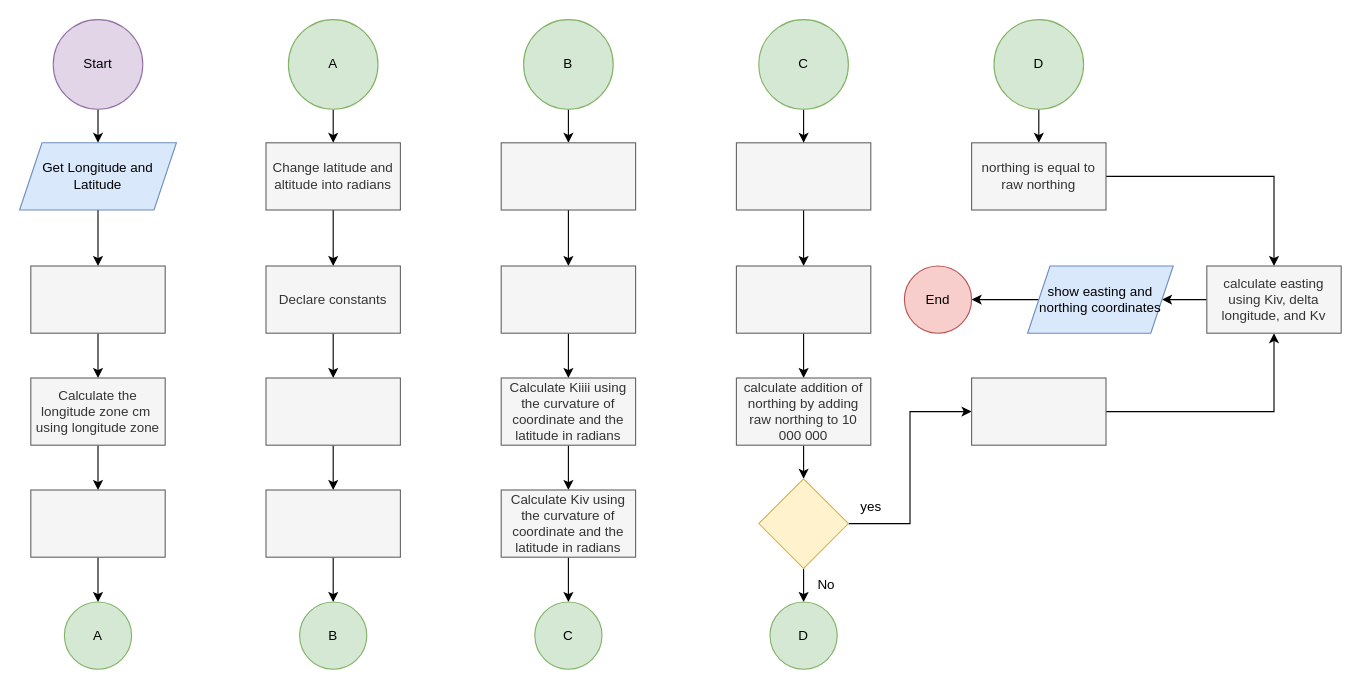
Some shapes in this 1361 by 689 pixel diagram are drawn without their labels. Each missing label, with the centre of its shape:
"Calculate curvature of the coordinate using latitude in radians" goes at point (332, 411).
"Calculate Ki using the meridional arc" goes at point (568, 176).
"Calculate Kii using the curvature of coordinate and the latitude in radians" goes at point (568, 299).
"Calculate Kv using the curvature of coordinate and the latitude in radians" goes at point (803, 176).
"calculate meridional arc using latitude in radians" goes at point (332, 523).
"calculate raw northing using Ki, Kii, delta longitude, and Kiii" goes at point (803, 299).
"Calculate the delta longitude using longitude and longitude zone" goes at point (97, 523).
"Calculate the longitude zone using longitude" goes at point (97, 299).
"is raw northing < 0?" goes at point (803, 523).
"northing is equal to the addition of raw northing to 10 000 000" goes at point (1038, 411).
